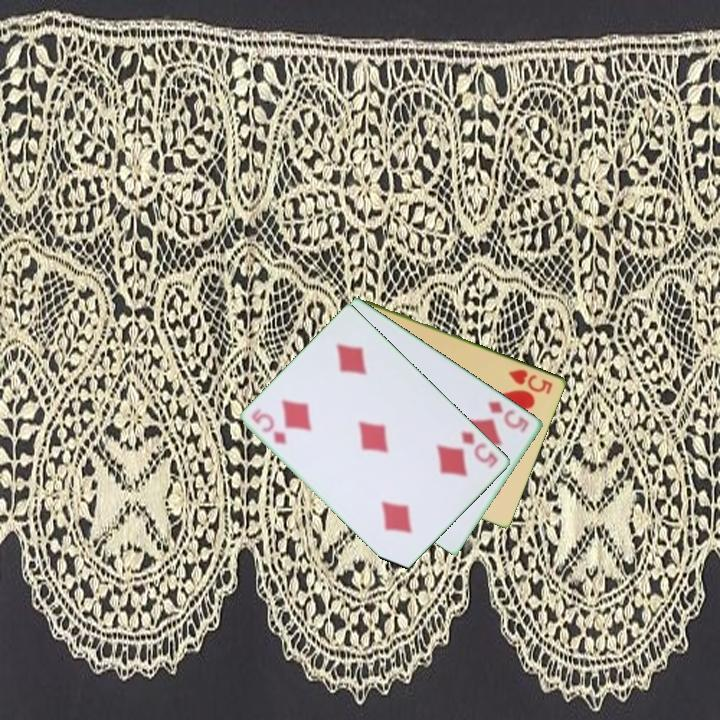5d: (458, 427, 501, 472), (484, 397, 532, 436), (248, 407, 290, 447)
5h: (505, 365, 556, 397)
